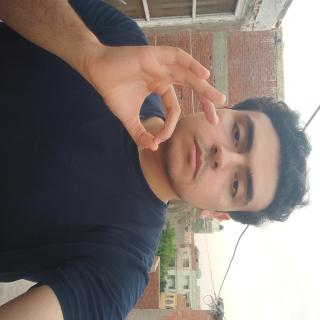Space: (30, 131, 112, 318)
